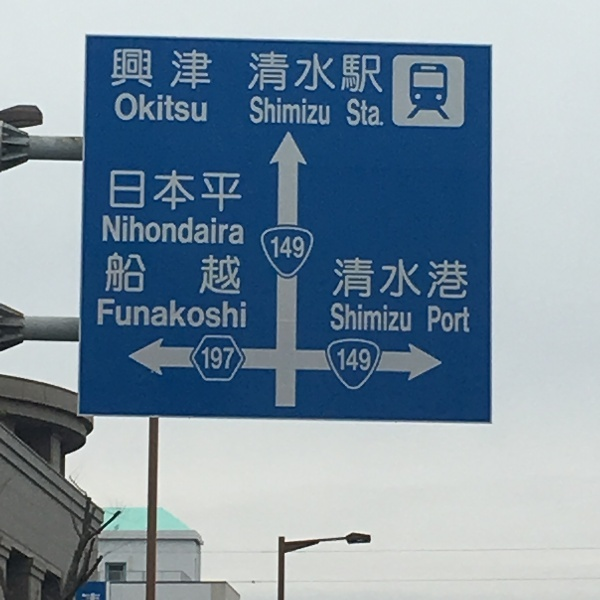text: (257, 47, 272, 97), (273, 47, 288, 97), (289, 47, 304, 97), (305, 47, 320, 97), (321, 47, 336, 97), (337, 47, 352, 97), (353, 47, 368, 97), (369, 47, 384, 97), (113, 46, 128, 92), (129, 46, 144, 92), (145, 46, 160, 92), (161, 46, 176, 92), (177, 46, 192, 92), (193, 46, 208, 92), (113, 167, 128, 212), (129, 167, 144, 212), (145, 167, 160, 212), (161, 167, 176, 212), (177, 167, 192, 212), (193, 167, 208, 212), (209, 167, 224, 212), (225, 167, 240, 212), (113, 252, 128, 296), (129, 252, 144, 296), (145, 252, 160, 296), (161, 252, 176, 296), (177, 252, 192, 296), (193, 252, 208, 296), (209, 252, 224, 296), (225, 252, 240, 296), (337, 256, 352, 300), (353, 256, 368, 300), (369, 256, 384, 300), (385, 256, 400, 300), (401, 256, 416, 300), (417, 256, 432, 300), (433, 256, 448, 300), (449, 256, 464, 300), (97, 297, 112, 332), (113, 297, 128, 332), (129, 297, 144, 332), (145, 297, 160, 332), (161, 297, 176, 332), (177, 297, 192, 332), (193, 297, 208, 332), (209, 297, 224, 332), (225, 297, 240, 332), (129, 91, 144, 124), (145, 91, 160, 124), (161, 91, 176, 124), (177, 91, 192, 124), (193, 91, 208, 124), (337, 301, 352, 334), (353, 301, 368, 334), (369, 301, 384, 334), (385, 301, 400, 334), (257, 97, 272, 129), (273, 97, 288, 129), (289, 97, 304, 129), (305, 97, 320, 129), (369, 98, 385, 128), (113, 214, 128, 246), (129, 214, 144, 246), (145, 214, 160, 246), (161, 214, 176, 246), (177, 214, 192, 246), (193, 214, 208, 246), (209, 214, 224, 246), (225, 214, 240, 246), (353, 98, 368, 128), (115, 91, 128, 124), (433, 306, 448, 334), (449, 306, 464, 334), (209, 345, 224, 373), (289, 233, 305, 259), (337, 346, 352, 373), (353, 346, 368, 373), (401, 301, 413, 334), (273, 233, 288, 259), (249, 47, 256, 97), (321, 97, 331, 129), (225, 345, 236, 373), (105, 252, 112, 296), (103, 214, 112, 246), (249, 97, 256, 129), (241, 297, 247, 332), (330, 301, 336, 334), (465, 306, 472, 334), (209, 46, 213, 92), (346, 98, 352, 128), (202, 345, 208, 373), (241, 214, 246, 246), (241, 167, 244, 212), (333, 256, 336, 300), (465, 256, 468, 300), (428, 306, 432, 334), (110, 167, 112, 212), (369, 346, 372, 373), (241, 252, 242, 296), (271, 233, 272, 259)
